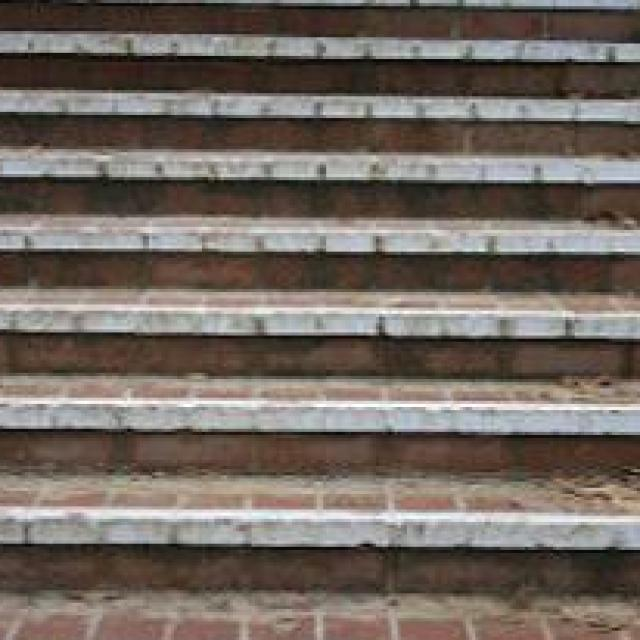upstair: (1, 138, 619, 610)
